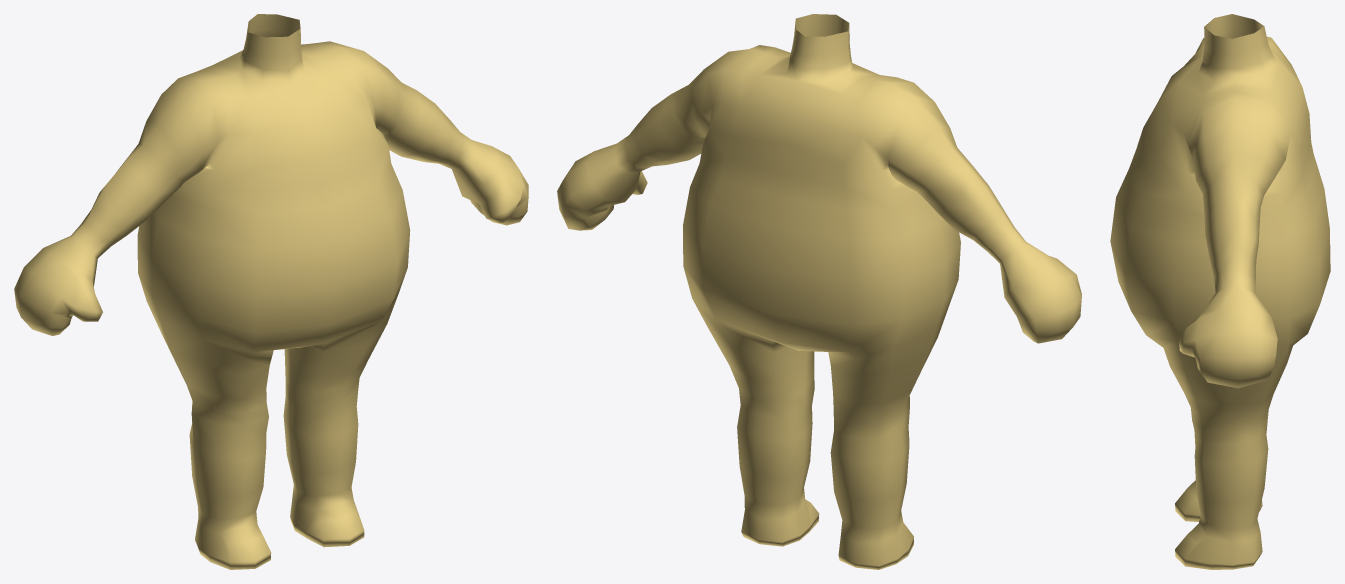
File: default fat naked.fbx
3 renders of one model, left to right at view 1: azimuth 30°, elevation 25°; view 2: azimuth 150°, elevation 25°; view 3: azimuth 270°, elevation 25°, orthographic. The views are drawn at different scales.
Parts seen in each view (by area): view 1: Body_Fat; view 2: Body_Fat; view 3: Body_Fat.
Boxes of the visible parts, x1=… form: Body_Fat: x1=14, y1=14, x2=528, y2=569; Body_Fat: x1=557, y1=14, x2=1081, y2=569; Body_Fat: x1=1110, y1=14, x2=1330, y2=569.
Bounding box in the file's own units: 107 × 104 × 40.75.
